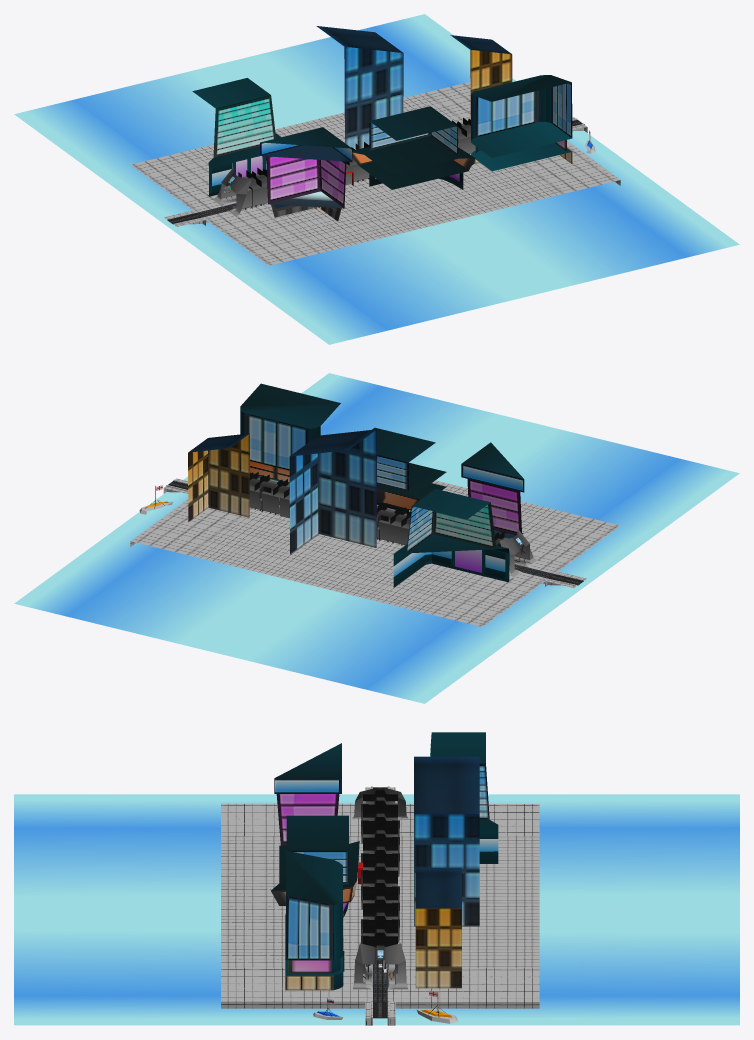
Rendered from subwaysurferstest89.glb.
3 views of the same model, one above another, from view 1: azimuth 30°, elevation 25°; view 2: azimuth 150°, elevation 25°; view 3: azimuth 270°, elevation 25° (orthographic). The views are drawn at different scales.
Parts seen in each view (by area): view 1: Water, tile.024, building, building.004, building.005, building.003, tile.001, building.008, building.007, tunnel.009; view 2: Water, tile.001, building.003, building.008, building, building.007, tile.024, building.004, building.005, tunnel.001, tunnel.009, tunnel.005; view 3: Water, tile.001, tile.024, building.003, building, building.007, building.004, building.005, building.008, tunnel, tunnel.009, tunnel.002 (+7 smaller).
Part boxes in pixels (x1=…): Water: x1=14, y1=14, x2=739, y2=344; tile.024: x1=202, y1=141, x2=620, y2=265; building: x1=471, y1=75, x2=572, y2=171; building.004: x1=352, y1=106, x2=475, y2=189; building.005: x1=260, y1=127, x2=352, y2=221; building.003: x1=316, y1=26, x2=403, y2=149; tile.001: x1=130, y1=81, x2=470, y2=212; building.008: x1=192, y1=78, x2=280, y2=196; building.007: x1=450, y1=35, x2=512, y2=119; tunnel.009: x1=213, y1=167, x2=265, y2=216; Water: x1=14, y1=373, x2=739, y2=703; tile.001: x1=130, y1=499, x2=547, y2=626; building.003: x1=289, y1=429, x2=377, y2=554; building.008: x1=393, y1=489, x2=509, y2=587; building: x1=240, y1=383, x2=340, y2=484; building.007: x1=188, y1=433, x2=249, y2=522; tile.024: x1=270, y1=479, x2=620, y2=573; building.004: x1=372, y1=427, x2=446, y2=513; building.005: x1=461, y1=442, x2=524, y2=538; tunnel.001: x1=250, y1=474, x2=289, y2=514; tunnel.009: x1=495, y1=528, x2=537, y2=578; tunnel.005: x1=376, y1=503, x2=406, y2=543; Water: x1=14, y1=794, x2=739, y2=1025; tile.001: x1=387, y1=804, x2=539, y2=1008; tile.024: x1=221, y1=803, x2=372, y2=1008; building.003: x1=414, y1=756, x2=479, y2=926; building: x1=285, y1=851, x2=344, y2=990; building.007: x1=415, y1=867, x2=461, y2=988; building.004: x1=271, y1=815, x2=359, y2=917; building.005: x1=274, y1=743, x2=341, y2=845; building.008: x1=430, y1=732, x2=498, y2=863; tunnel: x1=353, y1=938, x2=407, y2=989; tunnel.009: x1=352, y1=788, x2=407, y2=820; tunnel.002: x1=361, y1=905, x2=399, y2=942.
Size of the model in its own units: 562 by 166 by 744.
Materials: 9 (8 with a texture image).
